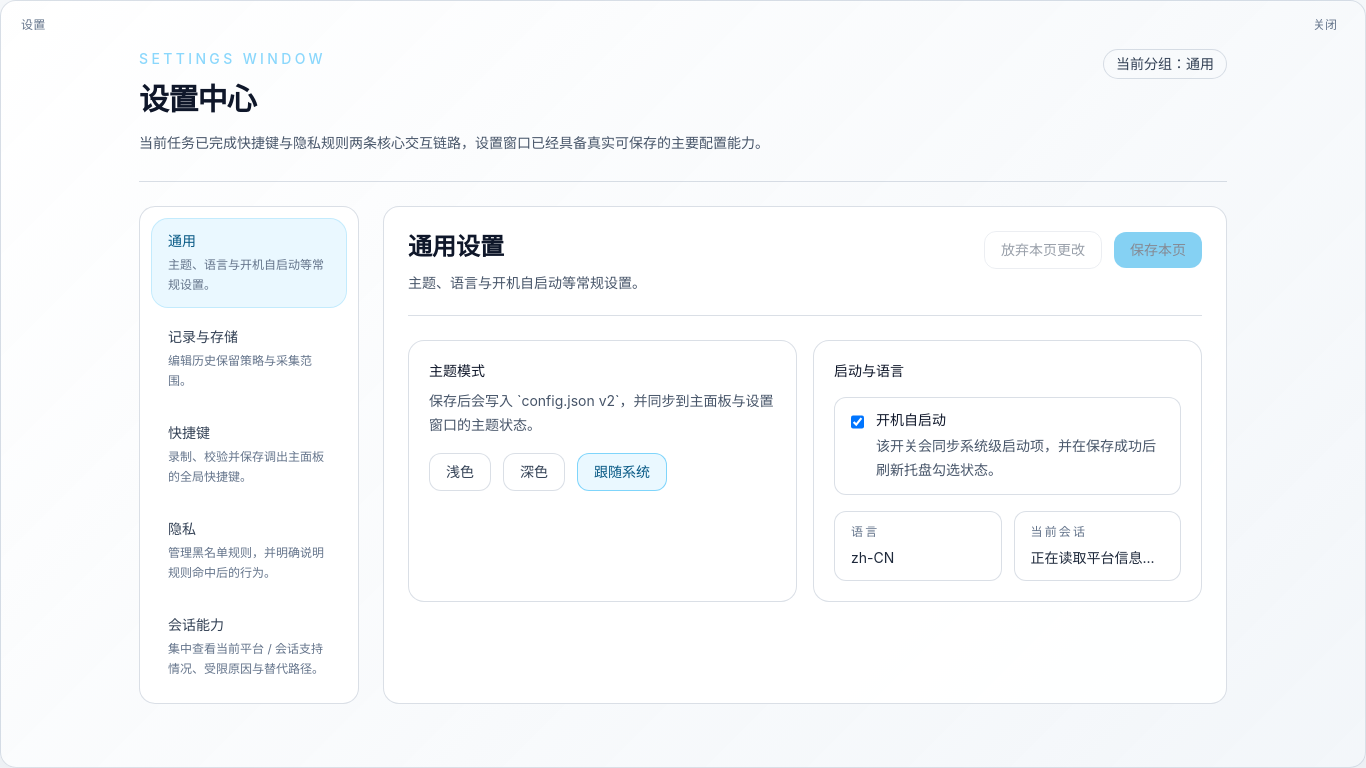
it: components/SettingsWindowPlaceholder › 能力受限时在会话能力分组集中展示完整说明
The image size is (1366, 768).
Check: the heading "设置中心" is shown, box [139,81,256,117]
Check: the text "当前会话能力受限" is not shown
What coordinates should you click on to do the following:
click the tab "会话能力 集中查看当前平台 / 会话支持情况、受限原因与替代路径。"
I would click on:
 (249, 647)
Its box is [152,603,346,691].
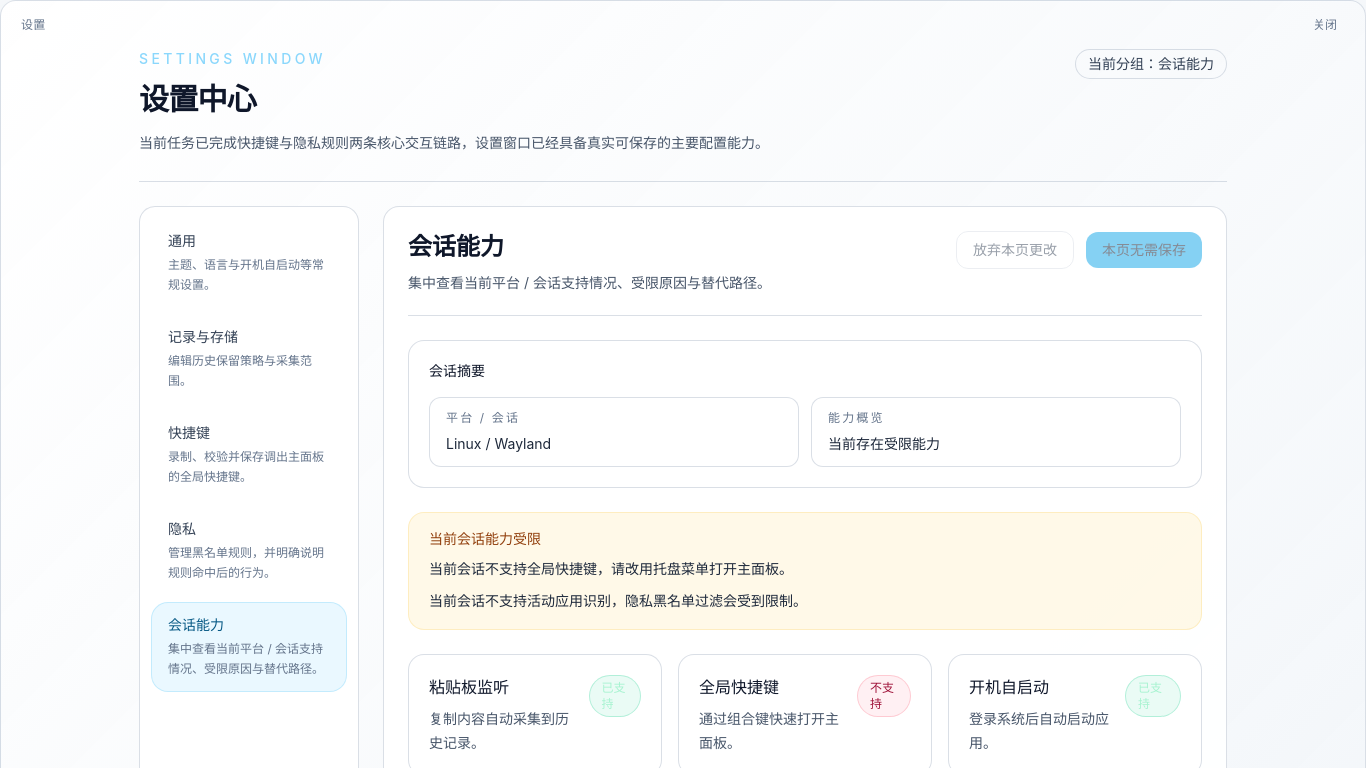
Check: the text "当前会话能力受限" is shown, box [429,530,541,547]
Check: the list item "当前会话不支持全局快捷键，请改用托盘菜单打开主面板。" is shown, box [429,560,793,577]
Check: the list item "当前会话不支持活动应用识别，隐私黑名单过滤会受到限制。" is shown, box [429,592,807,609]
